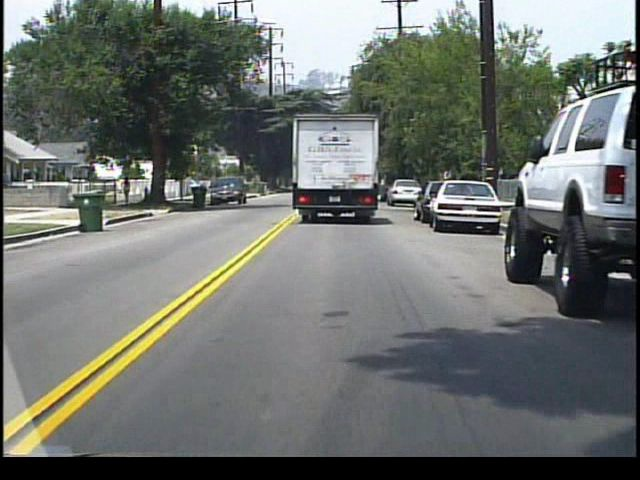person: (123, 175, 134, 205)
